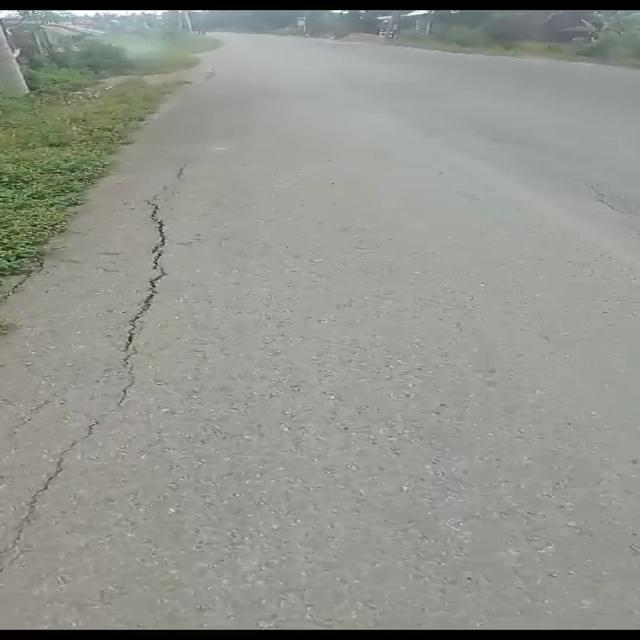Memanjang: (0, 184, 216, 584)
Pinggir: (0, 42, 201, 376)
